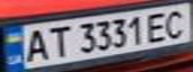1: (124, 12, 148, 46)
3: (93, 17, 115, 52), (75, 20, 96, 54), (109, 16, 130, 48)
A: (18, 26, 51, 63)
C: (160, 7, 193, 39)
E: (142, 9, 175, 43)
T: (42, 22, 72, 58)
